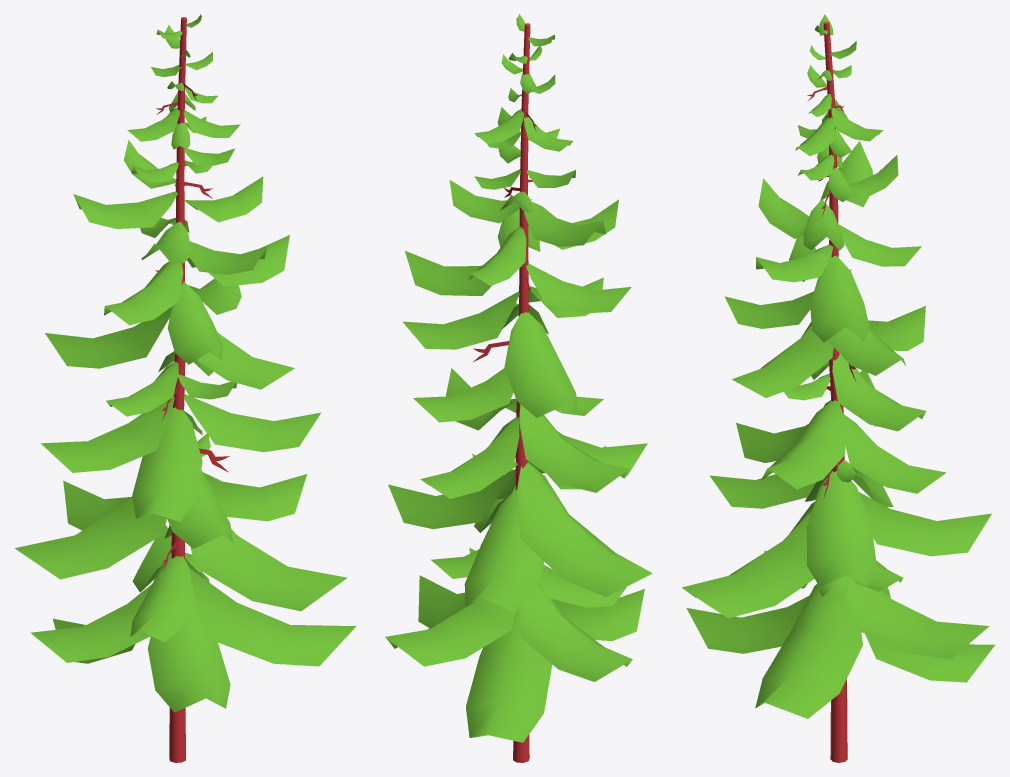
Rendered from PruceTree.fbx.
The picture shows the model from 3 angles, left to right: view 1: azimuth 30°, elevation 25°; view 2: azimuth 150°, elevation 25°; view 3: azimuth 270°, elevation 25°; orthographic projection. The views are drawn at different scales.
Visible parts, largest first — view 1: Plane, Cylinder, Plane.049; view 2: Plane, Cylinder; view 3: Plane, Cylinder.
Boxes of the visible parts, box(x1,y1,x2,y2) form: Plane: box(15, 14, 356, 712); Cylinder: box(169, 17, 186, 762); Plane.049: box(155, 83, 229, 570); Plane: box(385, 14, 652, 742); Cylinder: box(513, 23, 530, 762); Plane: box(681, 14, 994, 718); Cylinder: box(823, 21, 847, 762).
Size of the model in its own units: 386 by 953 by 366.
